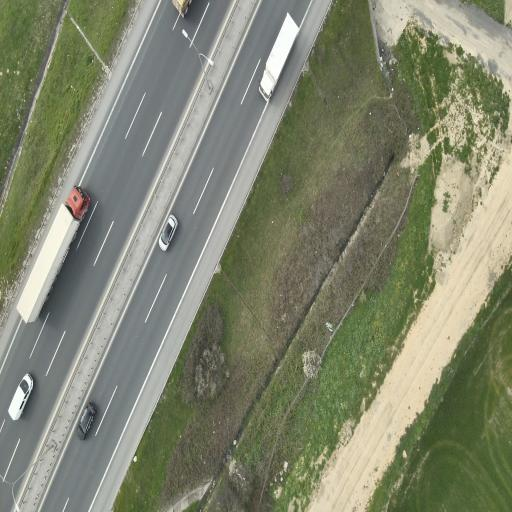car: (17, 186, 90, 321), (259, 12, 298, 100), (9, 373, 33, 419), (77, 402, 96, 439), (159, 214, 177, 249), (172, 0, 191, 15)
